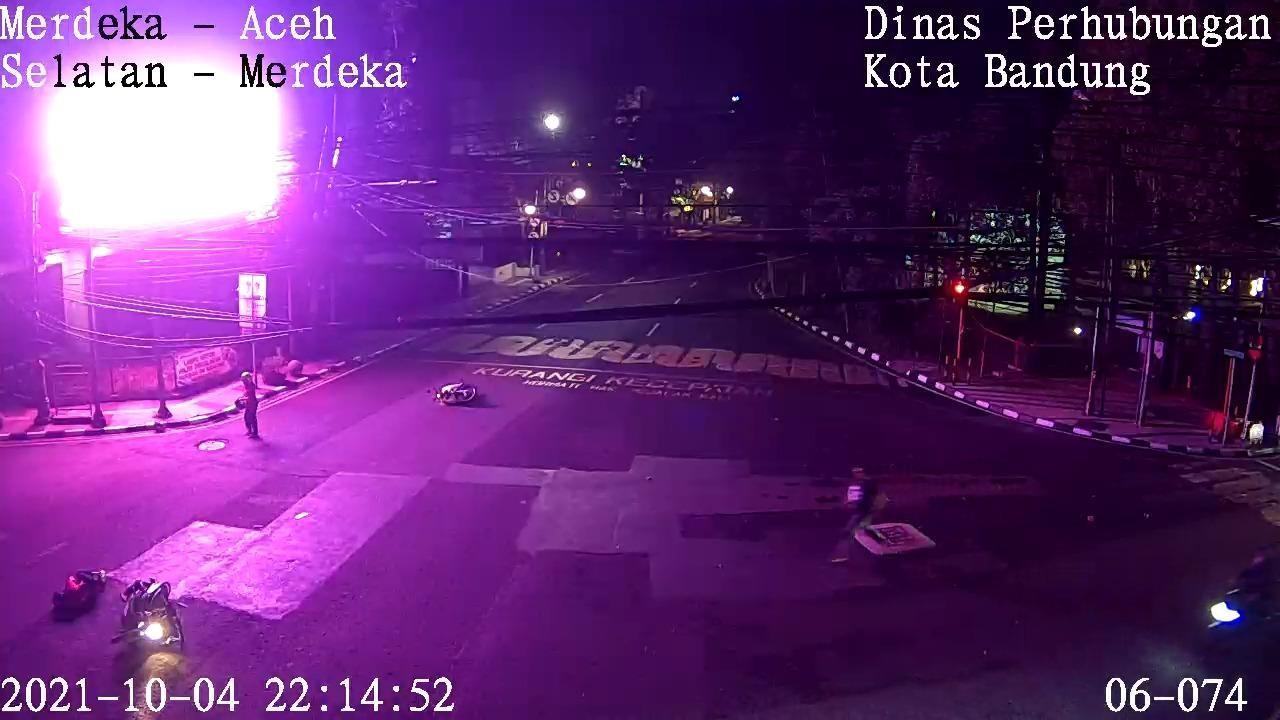accident: (35, 556, 116, 643)
